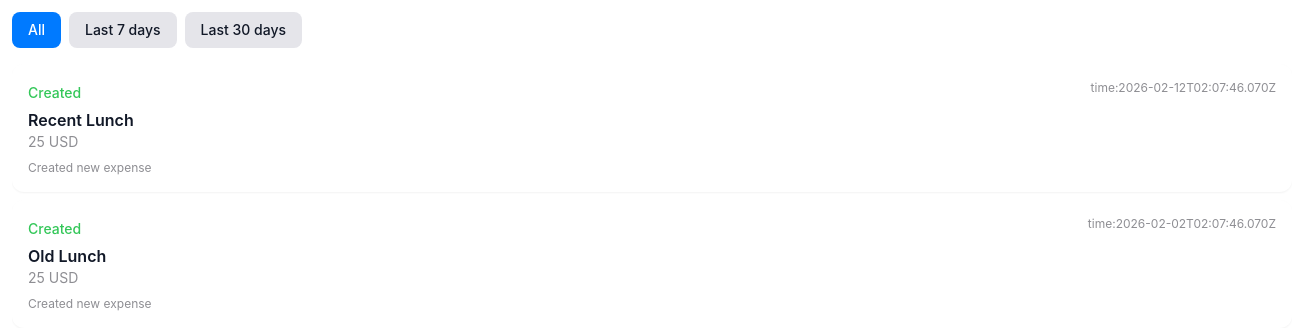
it: ActivityFeed › filters out old items when 7d filter is active
Expected: the text "Recent Lunch" is shown, [28, 110, 134, 130]
Expected: the text "Old Lunch" is shown, [28, 246, 106, 266]
Click 7d filter
Click the button "Last 7 days" at (123, 30), box [69, 12, 177, 48]
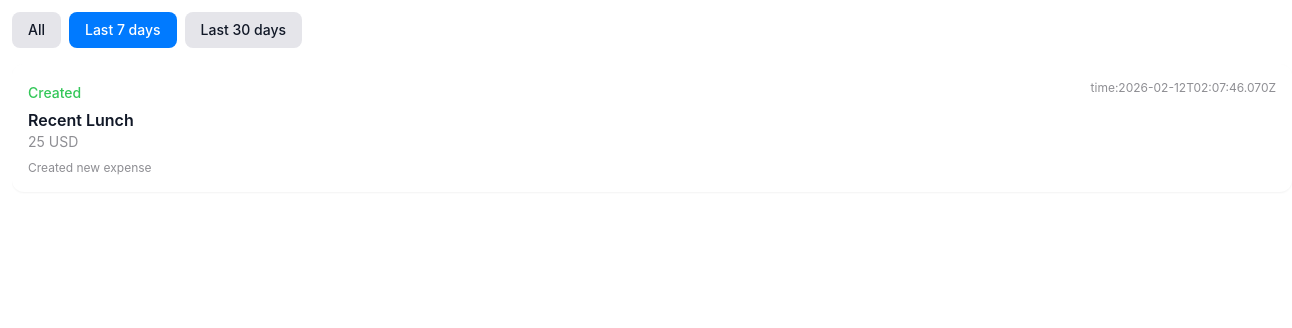
Expected: the text "Recent Lunch" is shown, [28, 110, 134, 130]
Result: the text "Old Lunch" is gone
